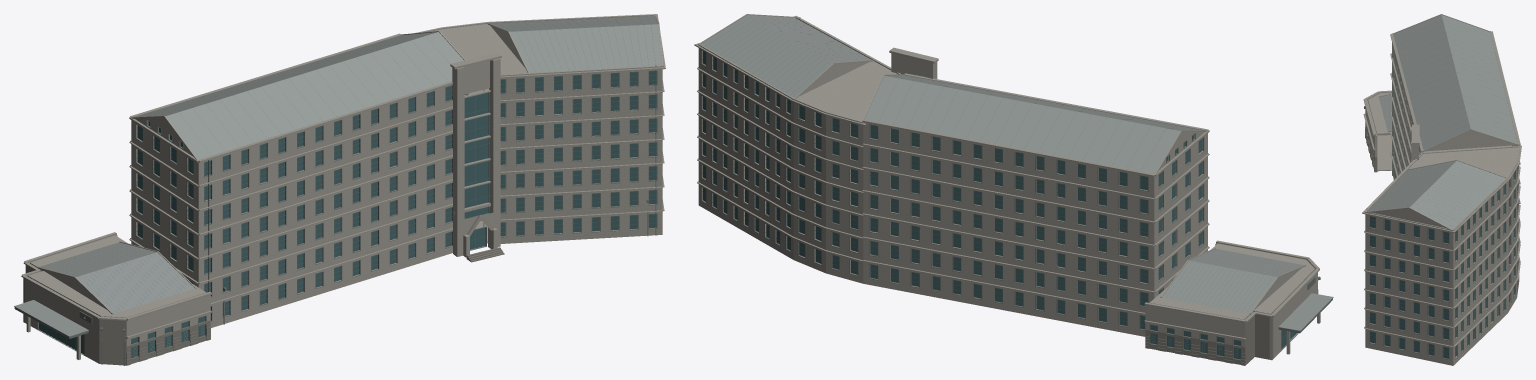
The picture shows the model from 3 angles, left to right: view 1: azimuth 30°, elevation 25°; view 2: azimuth 150°, elevation 25°; view 3: azimuth 270°, elevation 25°; orthographic projection. The views are drawn at different scales.
Parts seen in each view (by area): view 1: samsungHall__stone, samsungHall__roof, samsungHall__glass, samsungHall__frame, samsungHall__cream, samsungHall__rough; view 2: samsungHall__stone, samsungHall__roof, samsungHall__glass, samsungHall__frame, samsungHall__cream, samsungHall__rough; view 3: samsungHall__stone, samsungHall__roof, samsungHall__frame, samsungHall__cream, samsungHall__glass, samsungHall__rough.
Boxes of the visible parts, bbox=[...] form: samsungHall__stone: bbox=[25, 14, 665, 363]; samsungHall__roof: bbox=[14, 16, 661, 336]; samsungHall__glass: bbox=[39, 71, 656, 358]; samsungHall__frame: bbox=[14, 16, 657, 365]; samsungHall__cream: bbox=[21, 15, 664, 359]; samsungHall__rough: bbox=[23, 247, 504, 365]; samsungHall__stone: bbox=[694, 15, 1317, 360]; samsungHall__roof: bbox=[701, 15, 1333, 331]; samsungHall__glass: bbox=[703, 51, 1296, 359]; samsungHall__frame: bbox=[701, 17, 1332, 360]; samsungHall__cream: bbox=[697, 14, 1320, 354]; samsungHall__rough: bbox=[1145, 260, 1315, 365]; samsungHall__stone: bbox=[1362, 45, 1521, 365]; samsungHall__roof: bbox=[1367, 15, 1517, 229]; samsungHall__frame: bbox=[1364, 42, 1518, 359]; samsungHall__cream: bbox=[1363, 14, 1520, 347]; samsungHall__glass: bbox=[1370, 172, 1514, 358]; samsungHall__rough: bbox=[1365, 94, 1377, 172].
Bounding box in the file's own units: 100 × 29.08 × 26.93.
Materials: 7 (3 with a texture image).
